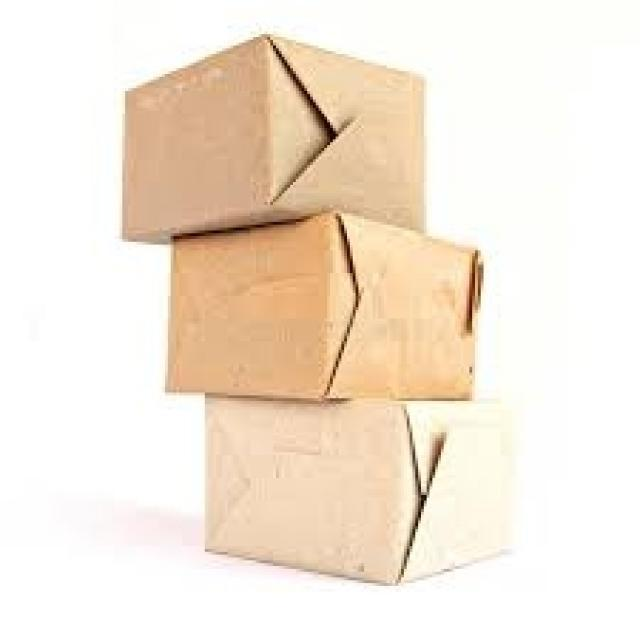cardboard paper: (122, 34, 506, 581), (122, 34, 422, 240), (167, 212, 479, 397), (205, 396, 508, 582)
